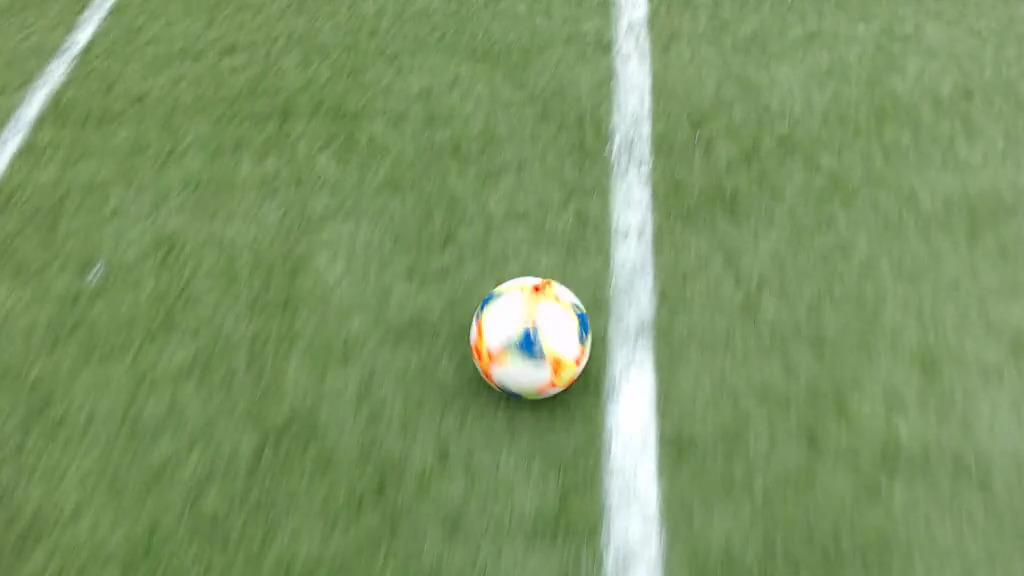ball: (472, 274, 591, 401)
